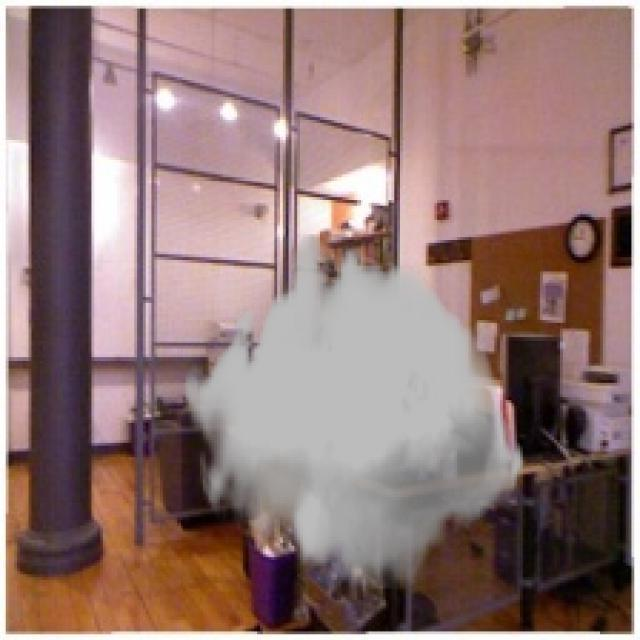Smoke: (183, 234, 526, 589)
